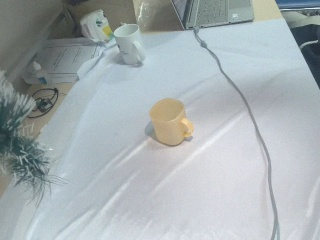cup: (148, 97, 195, 147), (112, 20, 150, 69)
